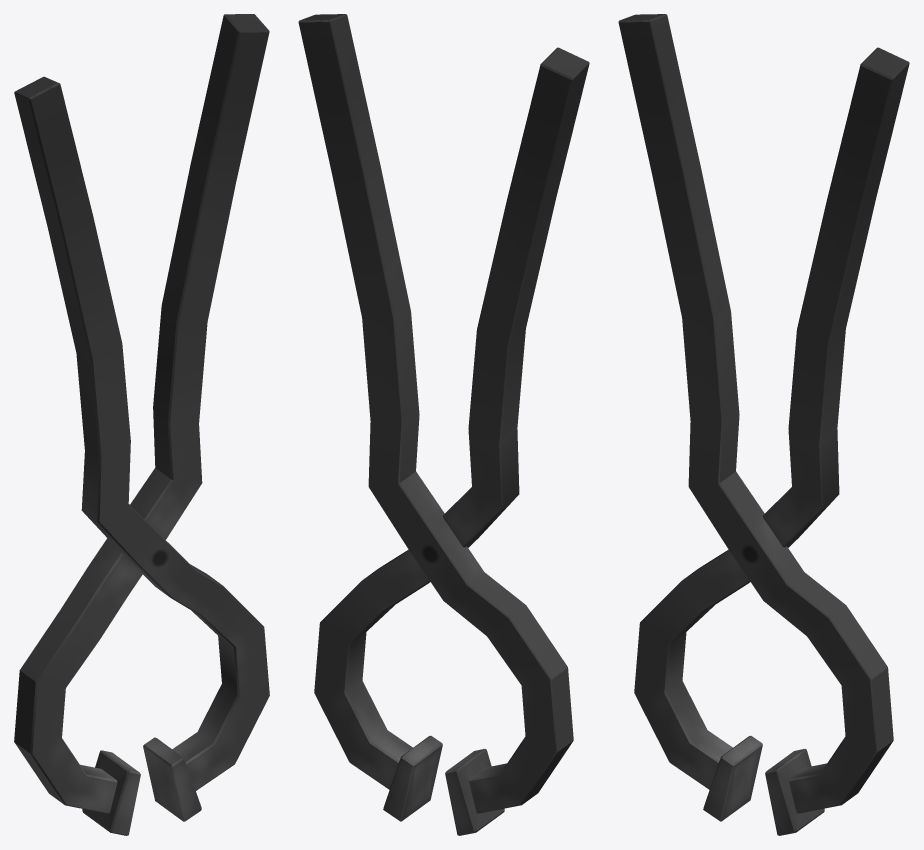
The model's file is tongs_mesh.fbx.
3 renders of one model, left to right at view 1: azimuth 30°, elevation 25°; view 2: azimuth 150°, elevation 25°; view 3: azimuth 330°, elevation 25°, orthographic.
Parts seen in each view (by area): view 1: clamp; view 2: clamp; view 3: clamp.
Part boxes in pixels (x1,y1,x2,y2): clamp: [14, 14, 269, 835]; clamp: [298, 14, 589, 835]; clamp: [618, 14, 909, 835].
Bounding box in the file's own units: 23.78 × 68.29 × 5.1.
